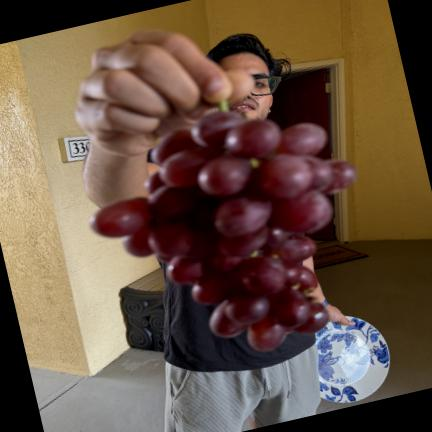grape_cluster: (91, 111, 356, 352)
